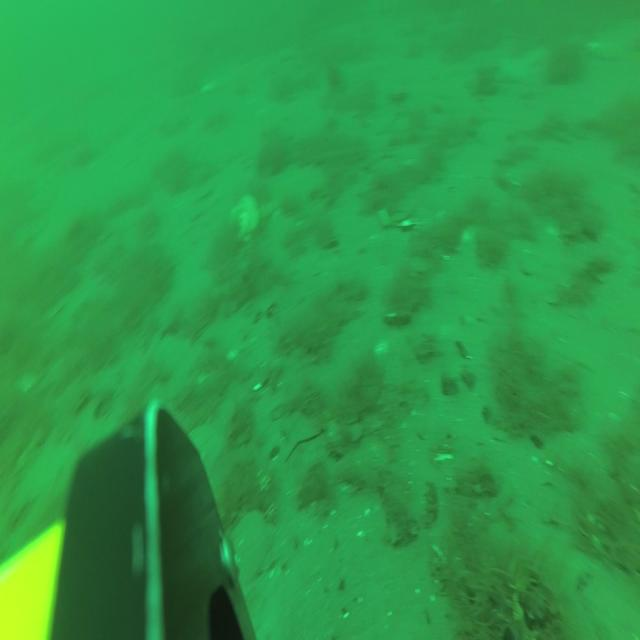scallop: (230, 508, 276, 581), (229, 193, 259, 240), (376, 196, 420, 228)
starfish: (497, 54, 532, 83)
